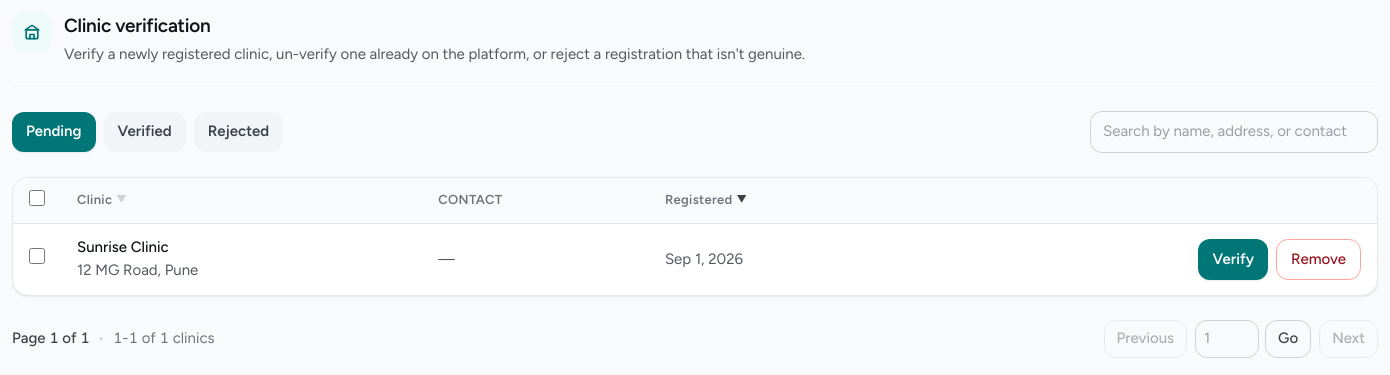
Test: PendingClinicsList › shows the rejection reason/detail on the Rejected tab and restores it back to Pending
The image size is (1390, 375).
Expected: the text "Sunrise Clinic" is shown, [77,238,169,256]
Click the tab "Rejected".
click(238, 132)  # box [194,112,283,152]
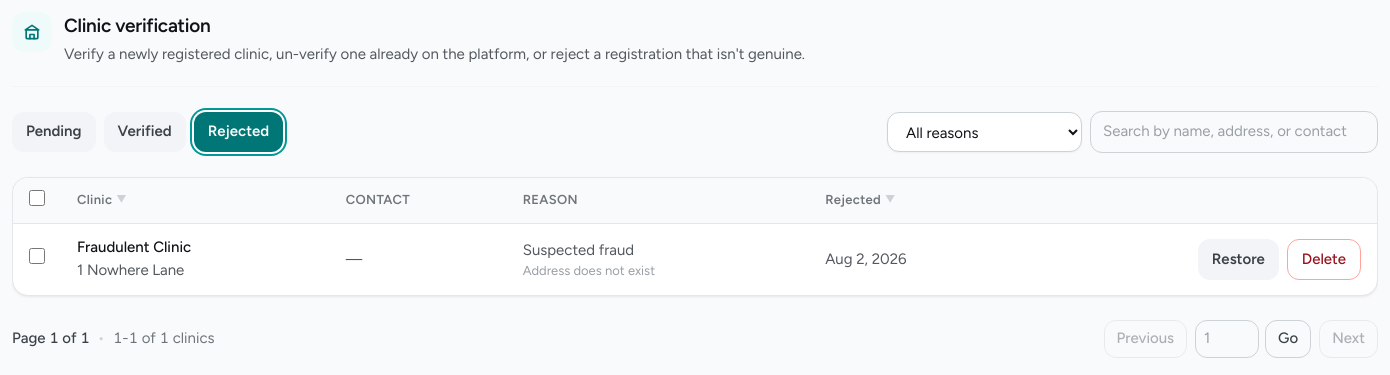
Expected: the text "Suspected fraud" is shown, [523,240,634,258]
Expected: the text "Address does not exist" is shown, [523,263,655,278]
Click the button "Restore".
click(1238, 259)  # box [1198,239,1279,280]
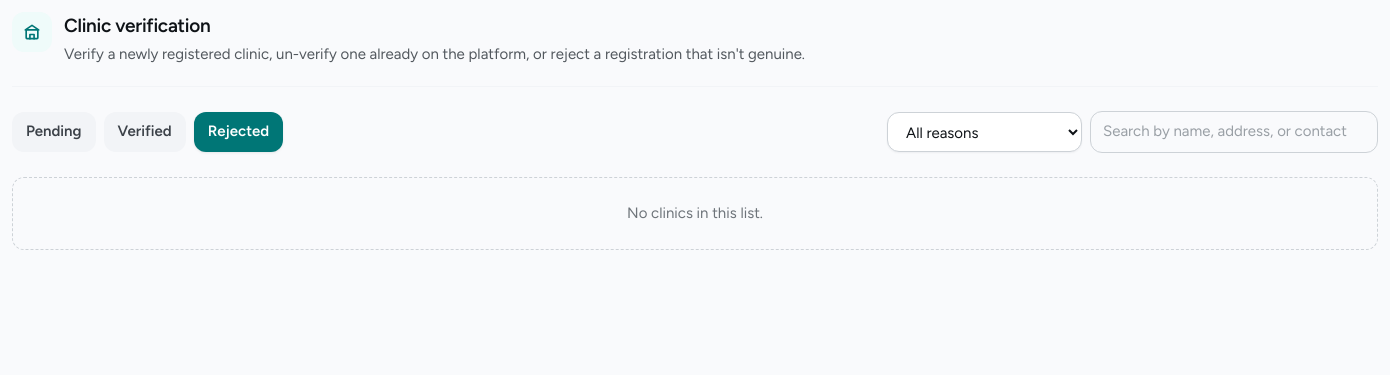
Expected: the text "Fraudulent Clinic" is gone
